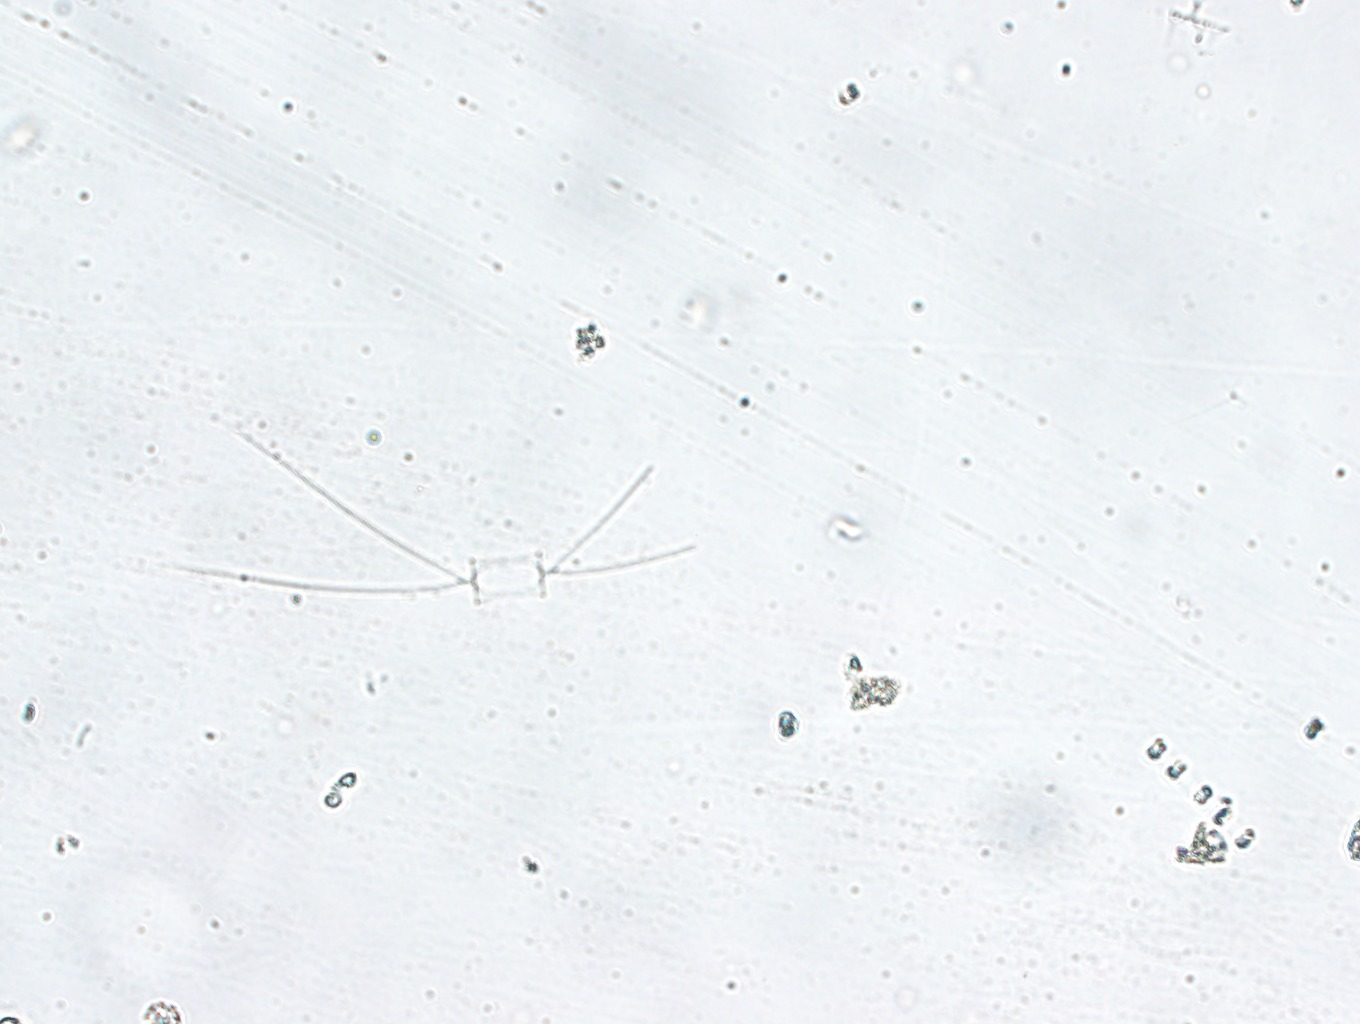chaetoceros: (162, 409, 702, 613)
skeletonema: (1141, 734, 1262, 861)
